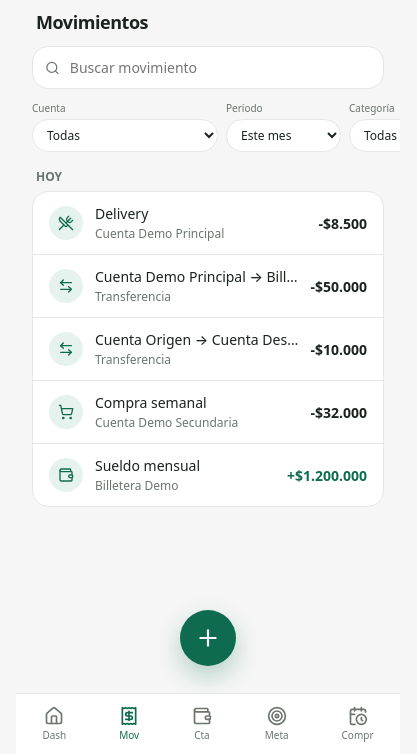
it: MovementsPage › closes detail with feedback when an edited movement no longer matches the active filters
Check: the heading "HOY" is shown, box [36,168,62,185]
Select "Cuenta Demo Secundaria" in the dropdown labelled "Cuenta" at {"x": 125, "y": 136}, box [32,119,218,152]
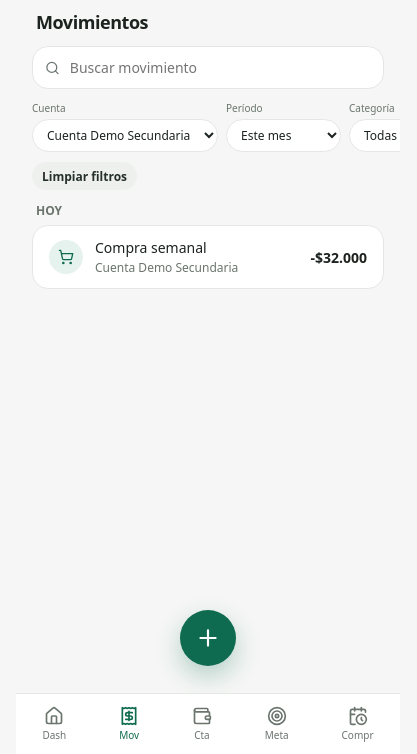
Click the button with aria-label "Ver detalle de Compra semanal" at {"x": 208, "y": 257}, box [33,226,383,288]
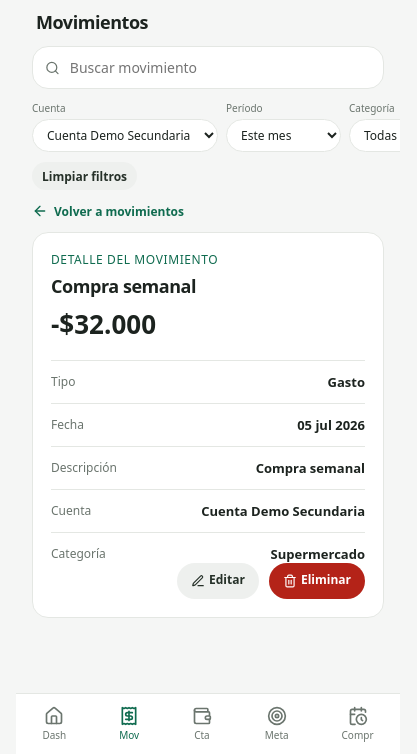
Click the button "Editar" at {"x": 218, "y": 580}, box [177,562,259,598]
(page scrolled)
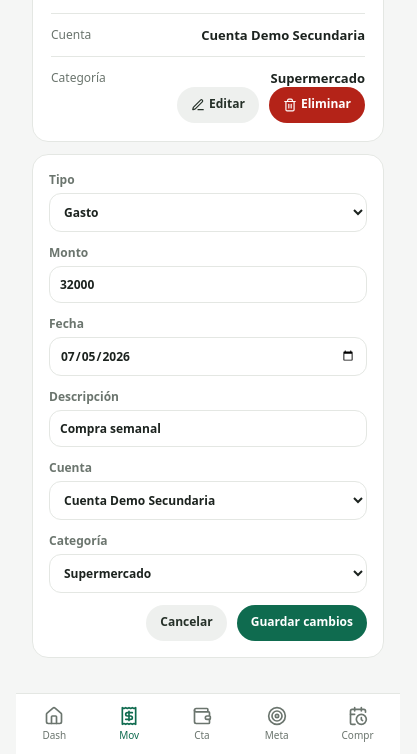
Select "Billetera Demo" in the dropdown labelled "Cuenta" at {"x": 208, "y": 500}, box [49,480,367,520]
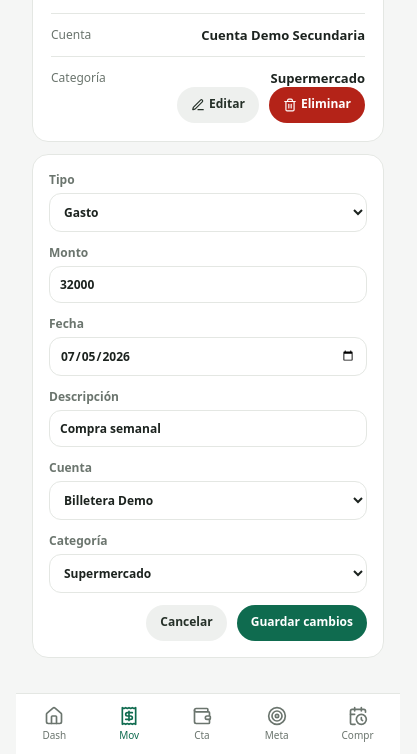
Click the button "Guardar cambios" at {"x": 302, "y": 622}, box [237,604,367,640]
(page scrolled)
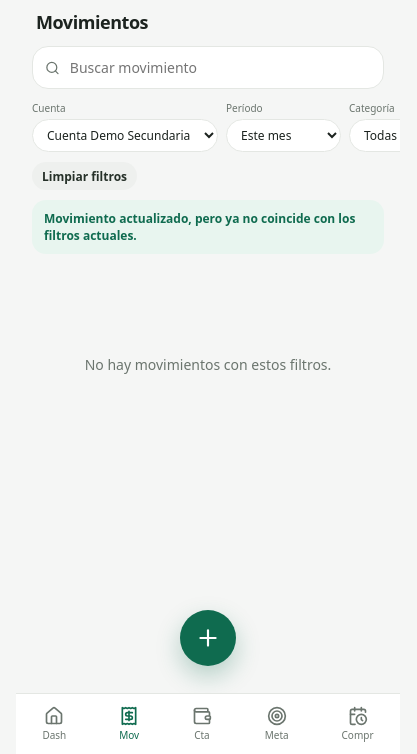
Check: the text "Movimiento actualizado, pero ya no coincide con los filtros actuales." is shown, box [32,200,384,254]
